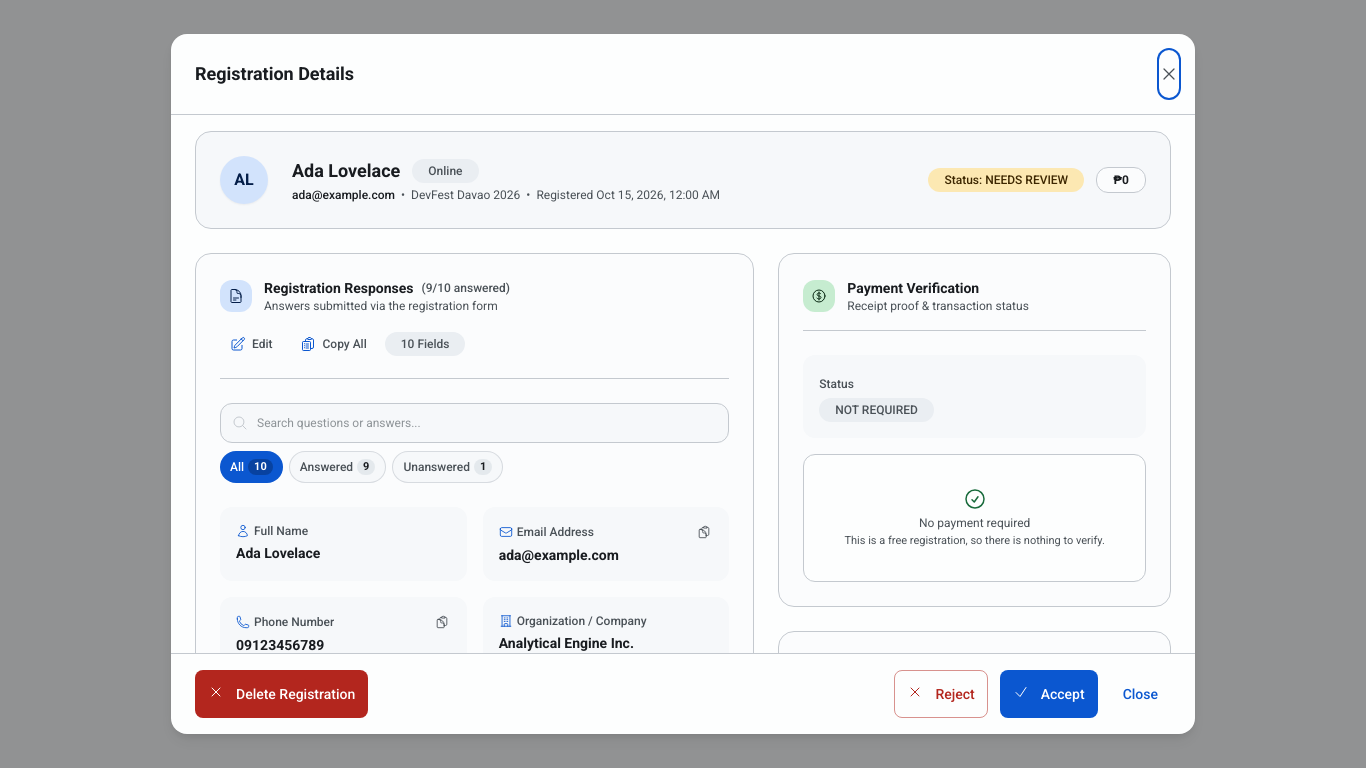
Test: RegistrationDetailsModal — Registration Responses UI/UX › supports instant search filtering by question label and answer value
// Search for "Vegetarian" (matches answer)
Type "Vegetarian" into the field with placeholder "Search questions or answers...".
click(475, 423); type("Vegetarian")  # box [220,403,729,443]
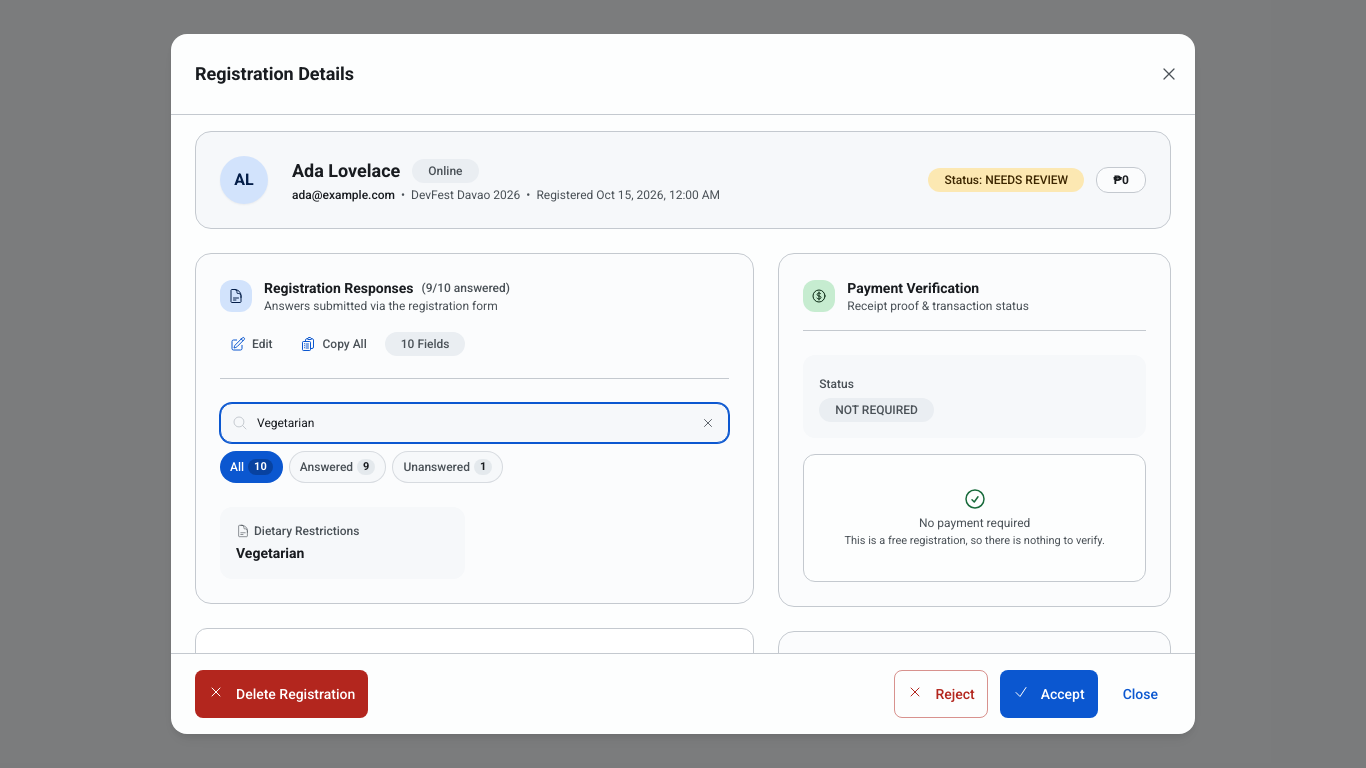
Check: the text "T-Shirt Size" is not shown
Check: the text "Dietary Restrictions" is shown, box [254,523,359,539]
Check: the text "Vegetarian" is shown, box [236,545,304,561]
// Clear search
Click the button named "clear search".
click(708, 423)  # box [697,412,719,434]
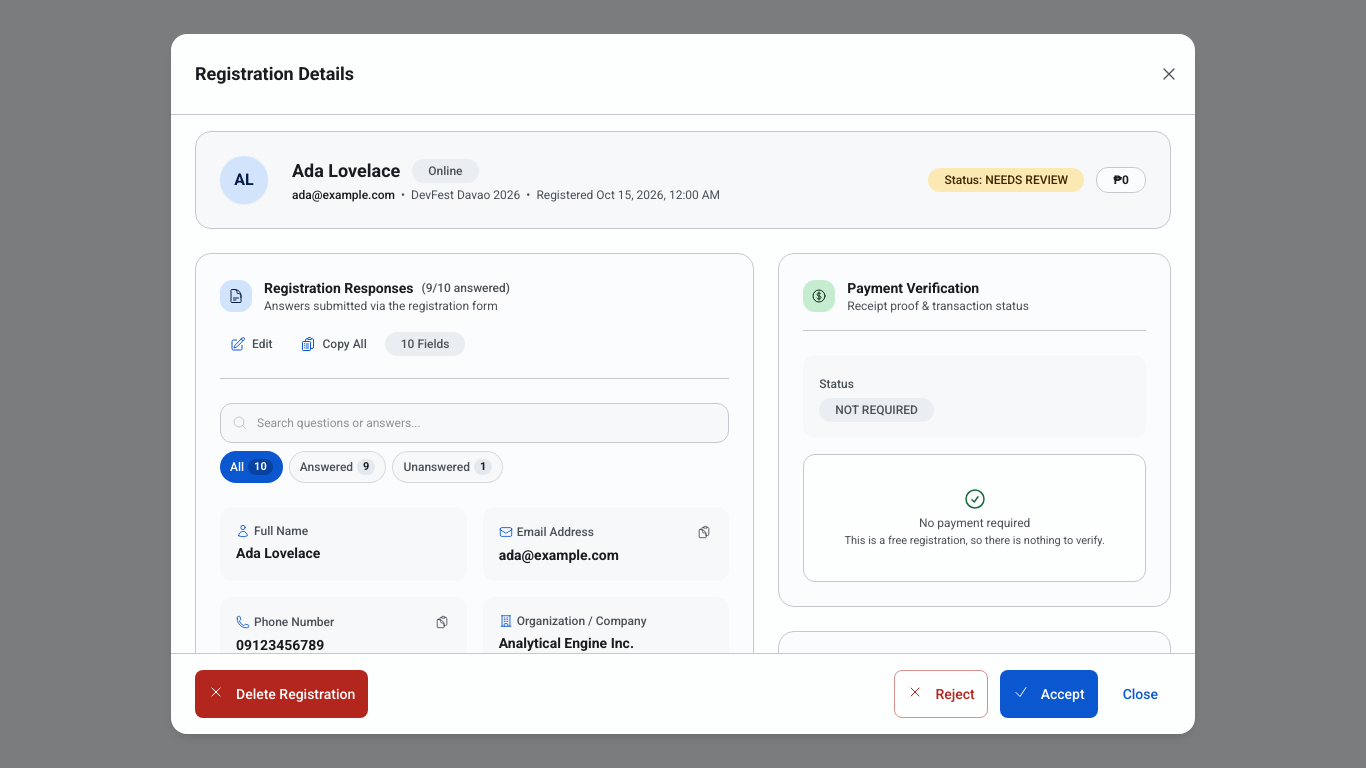
Check: the field with placeholder "Search questions or answers..." is empty, box [220,403,729,443]
